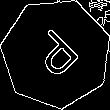P_SE: (26, 22, 87, 85)
